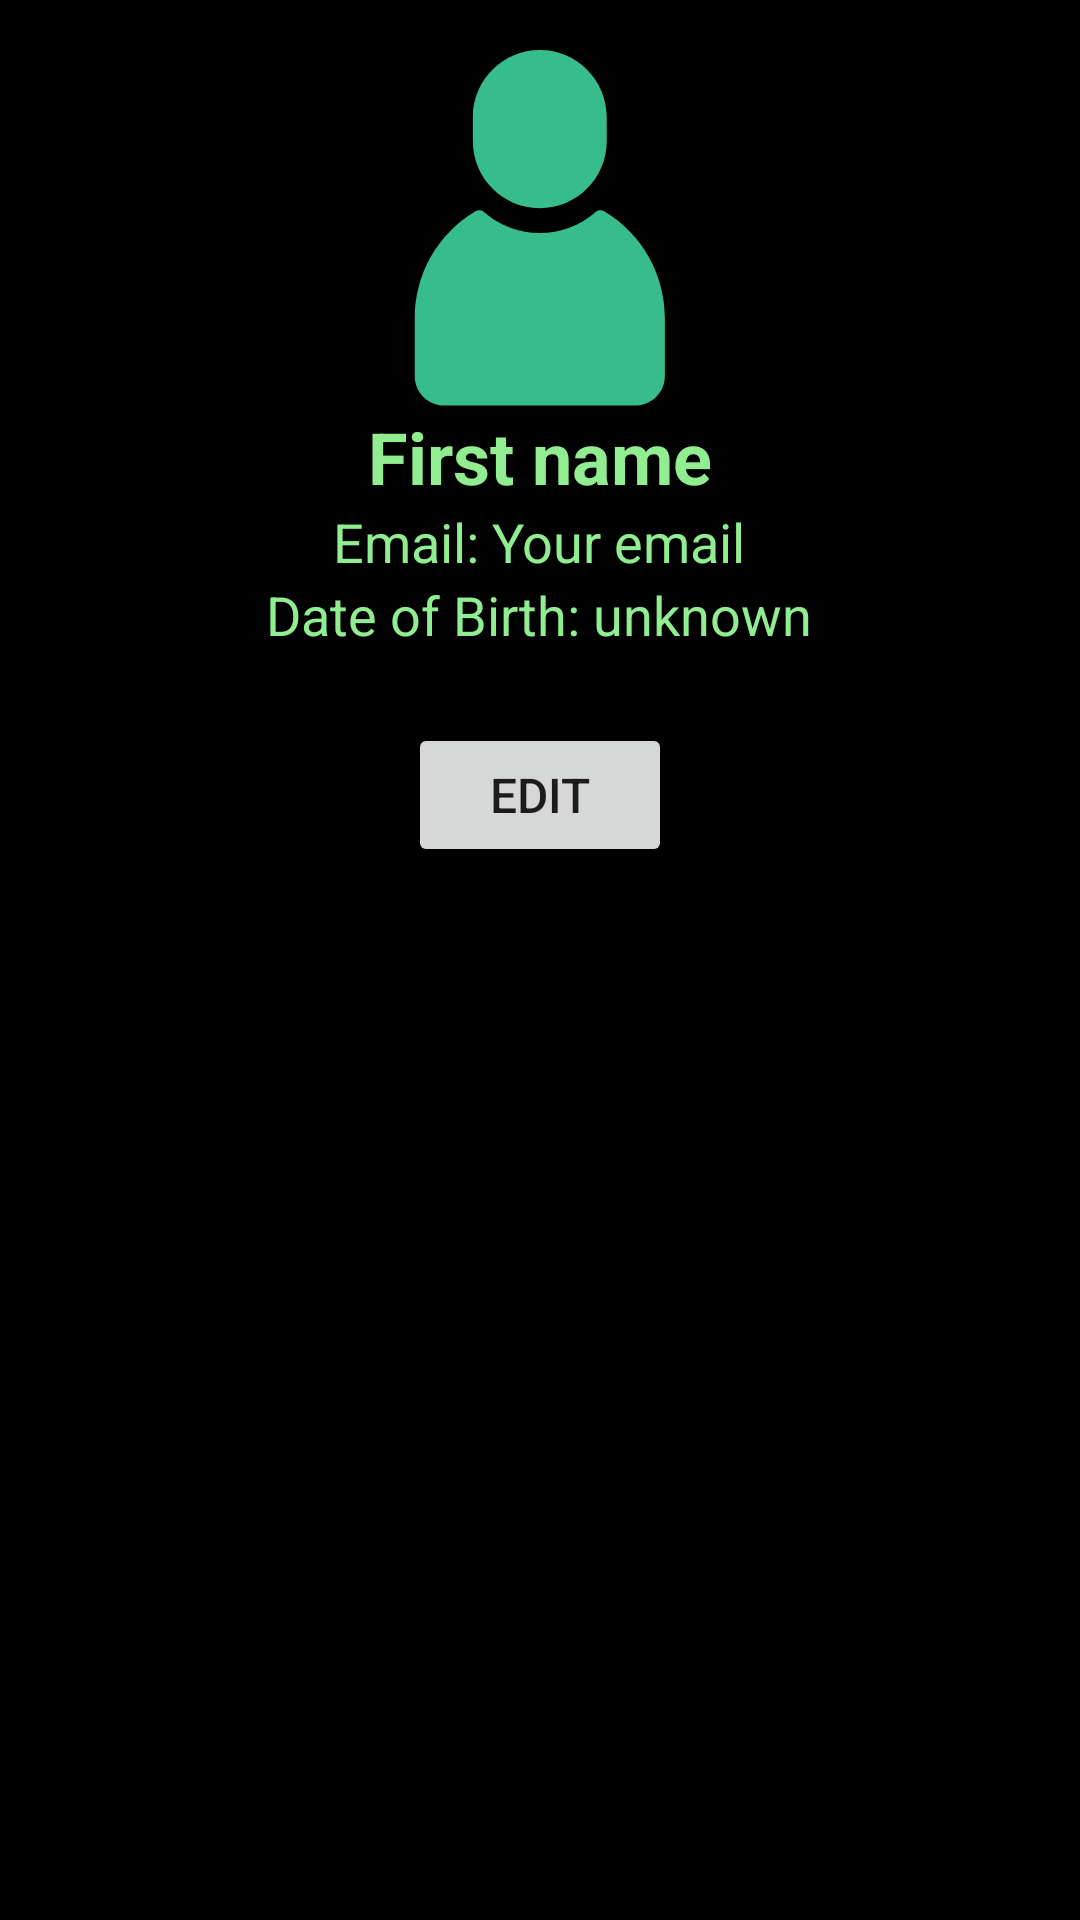

Where to tap for icons on this 1080w x 1920h app screen, as (x=x, y=y):
Avatar: (x=539, y=228)
